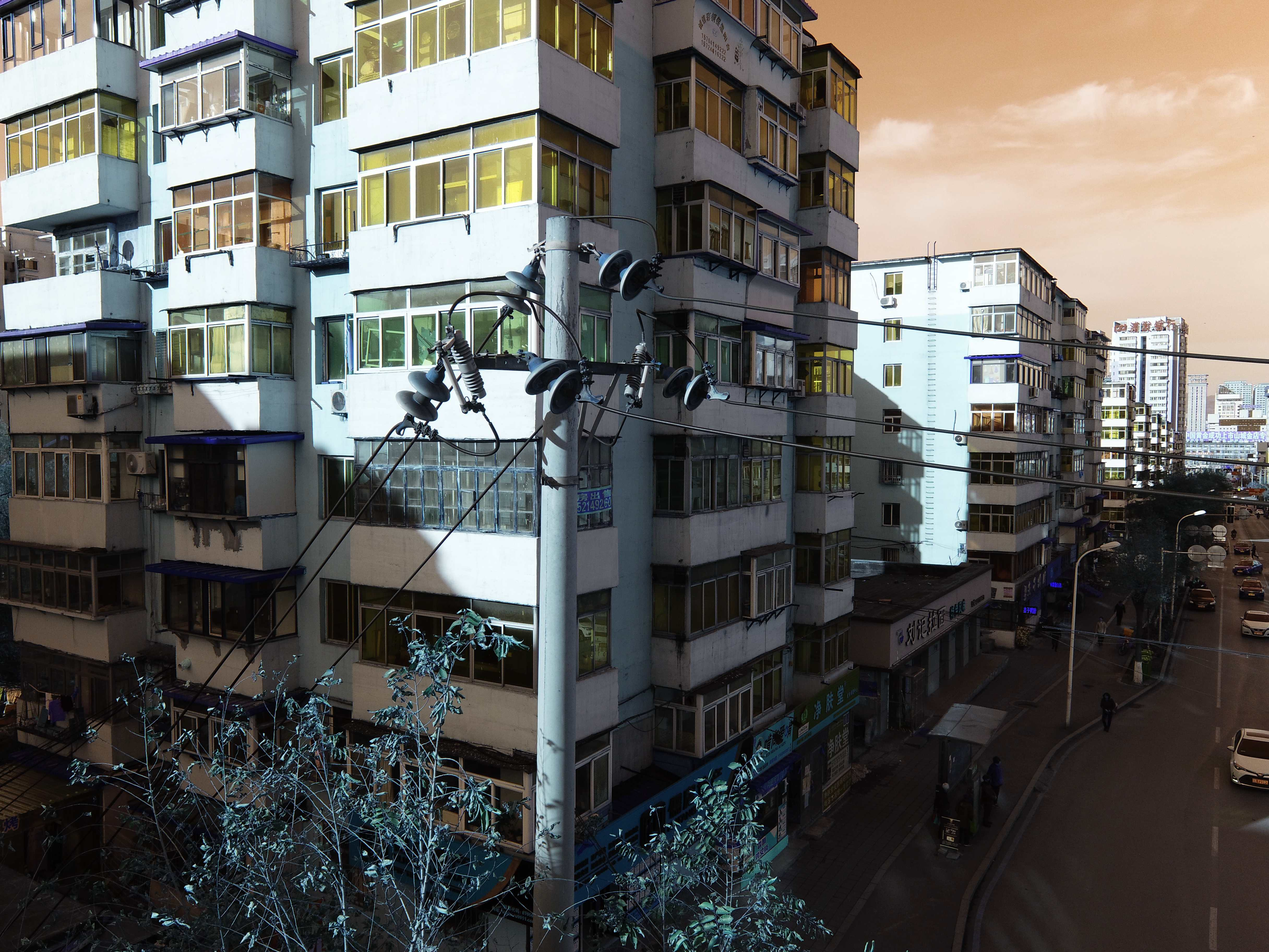severe_soiling_no_discharge_whole: (395, 362, 453, 423)
